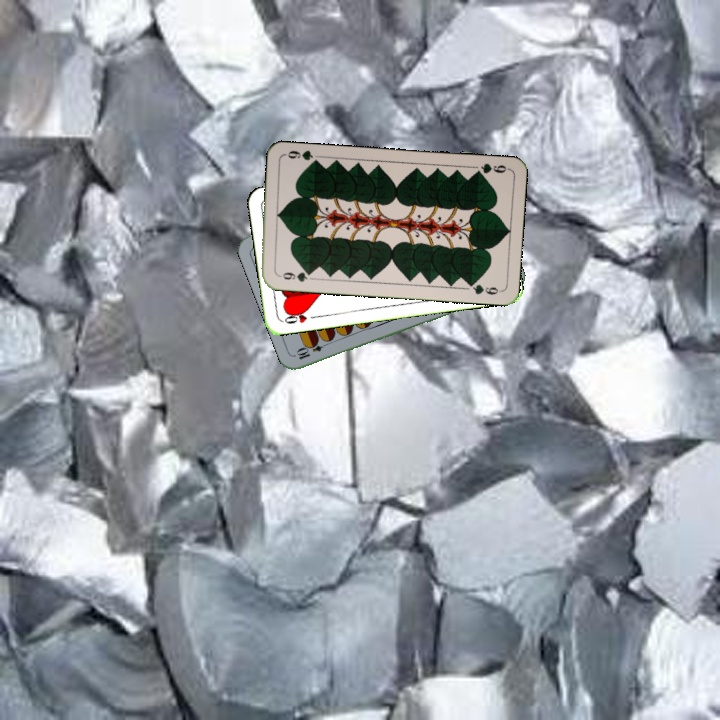E10: (293, 337, 332, 362)
G9: (470, 159, 511, 178), (274, 268, 315, 284)
HO: (279, 306, 320, 326)
